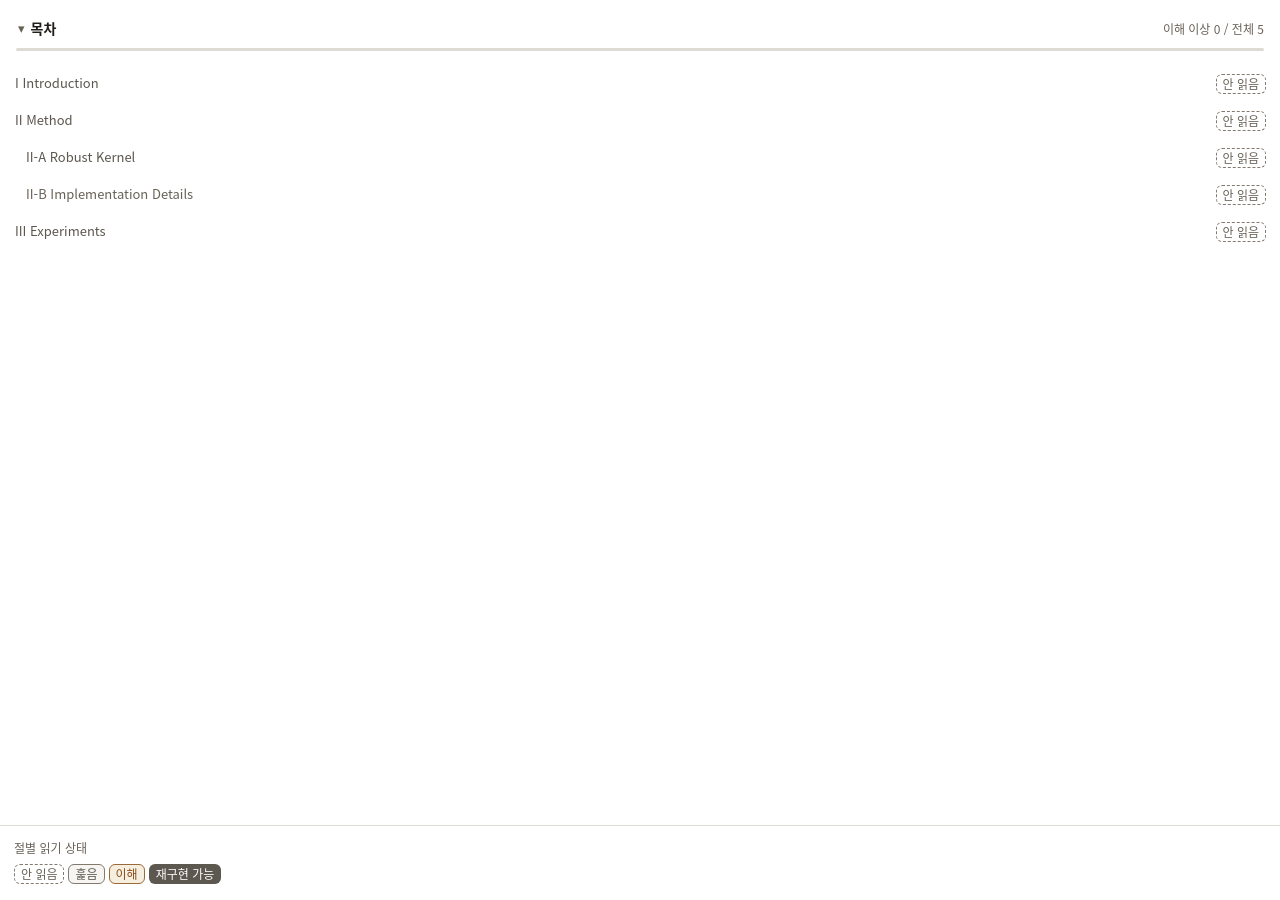
Test case: <Outline> › a failed progress.put shows the error and reloads the stored states
Expected: the list with test id "rd-outline-tree" is shown, [8,65,1272,250]
the buttons work once progress.list has answered (C-I10-03)
Click the button with test id "rd-progress-toggle". click: click(1241, 84)
box: [1216,74,1266,94]
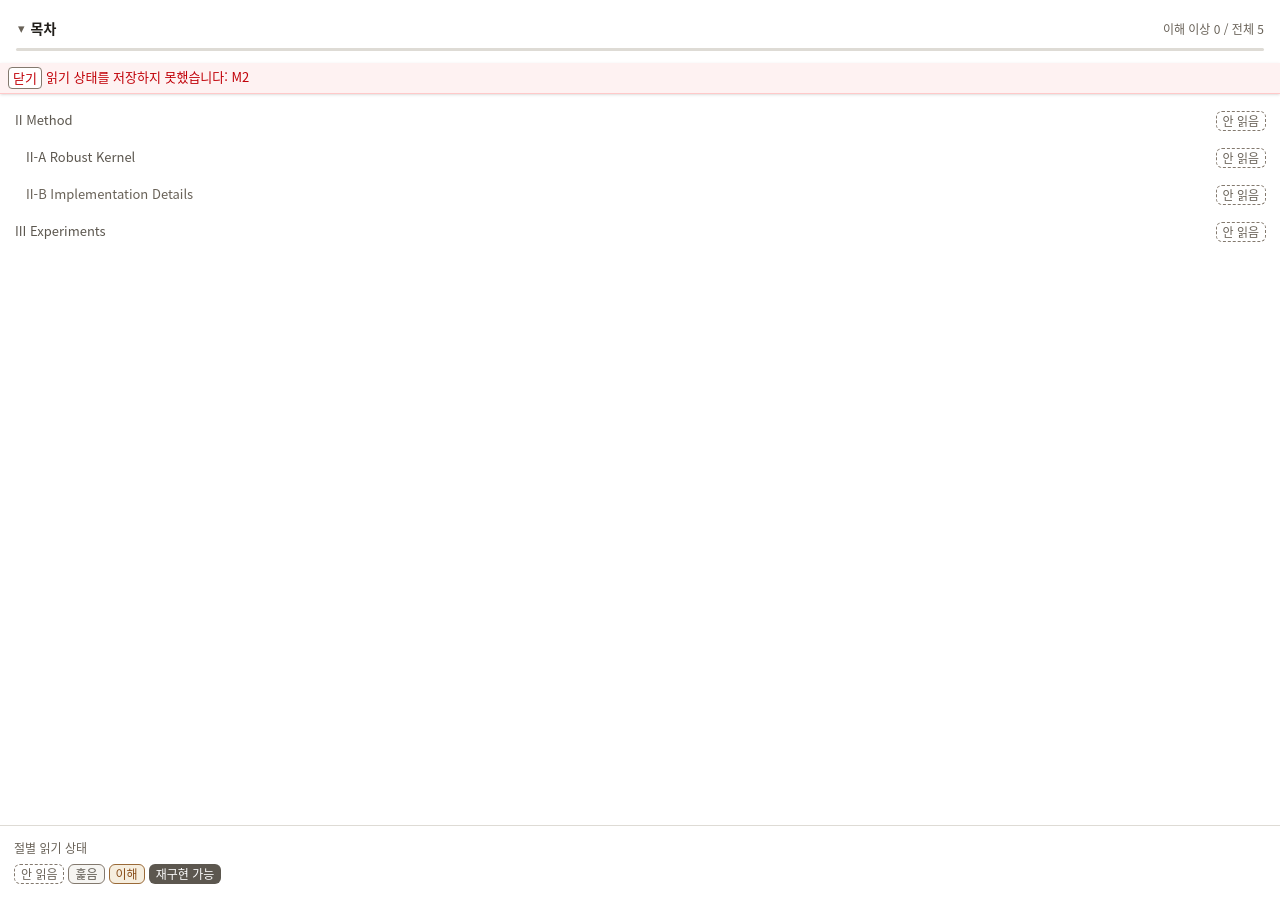
Expected: the message "닫기 읽기 상태를 저장하지 못했습니다: M2" is shown, [8,67,249,89]
